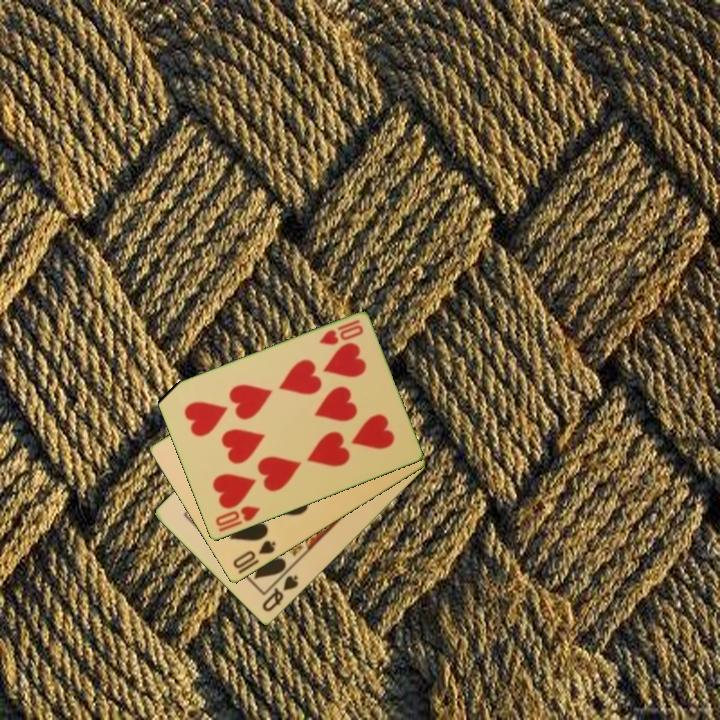10h: (316, 316, 366, 349), (211, 503, 263, 530)
10s: (229, 537, 279, 572)
Qs: (258, 572, 301, 615)
